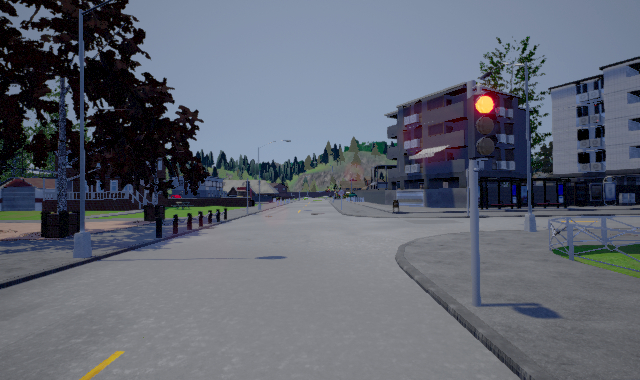traffic_light: (467, 90, 498, 159)
